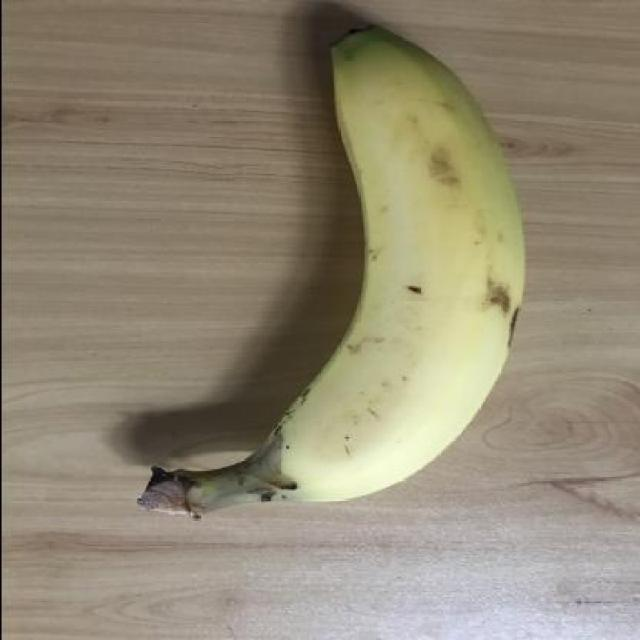Banana: (123, 21, 532, 524)
